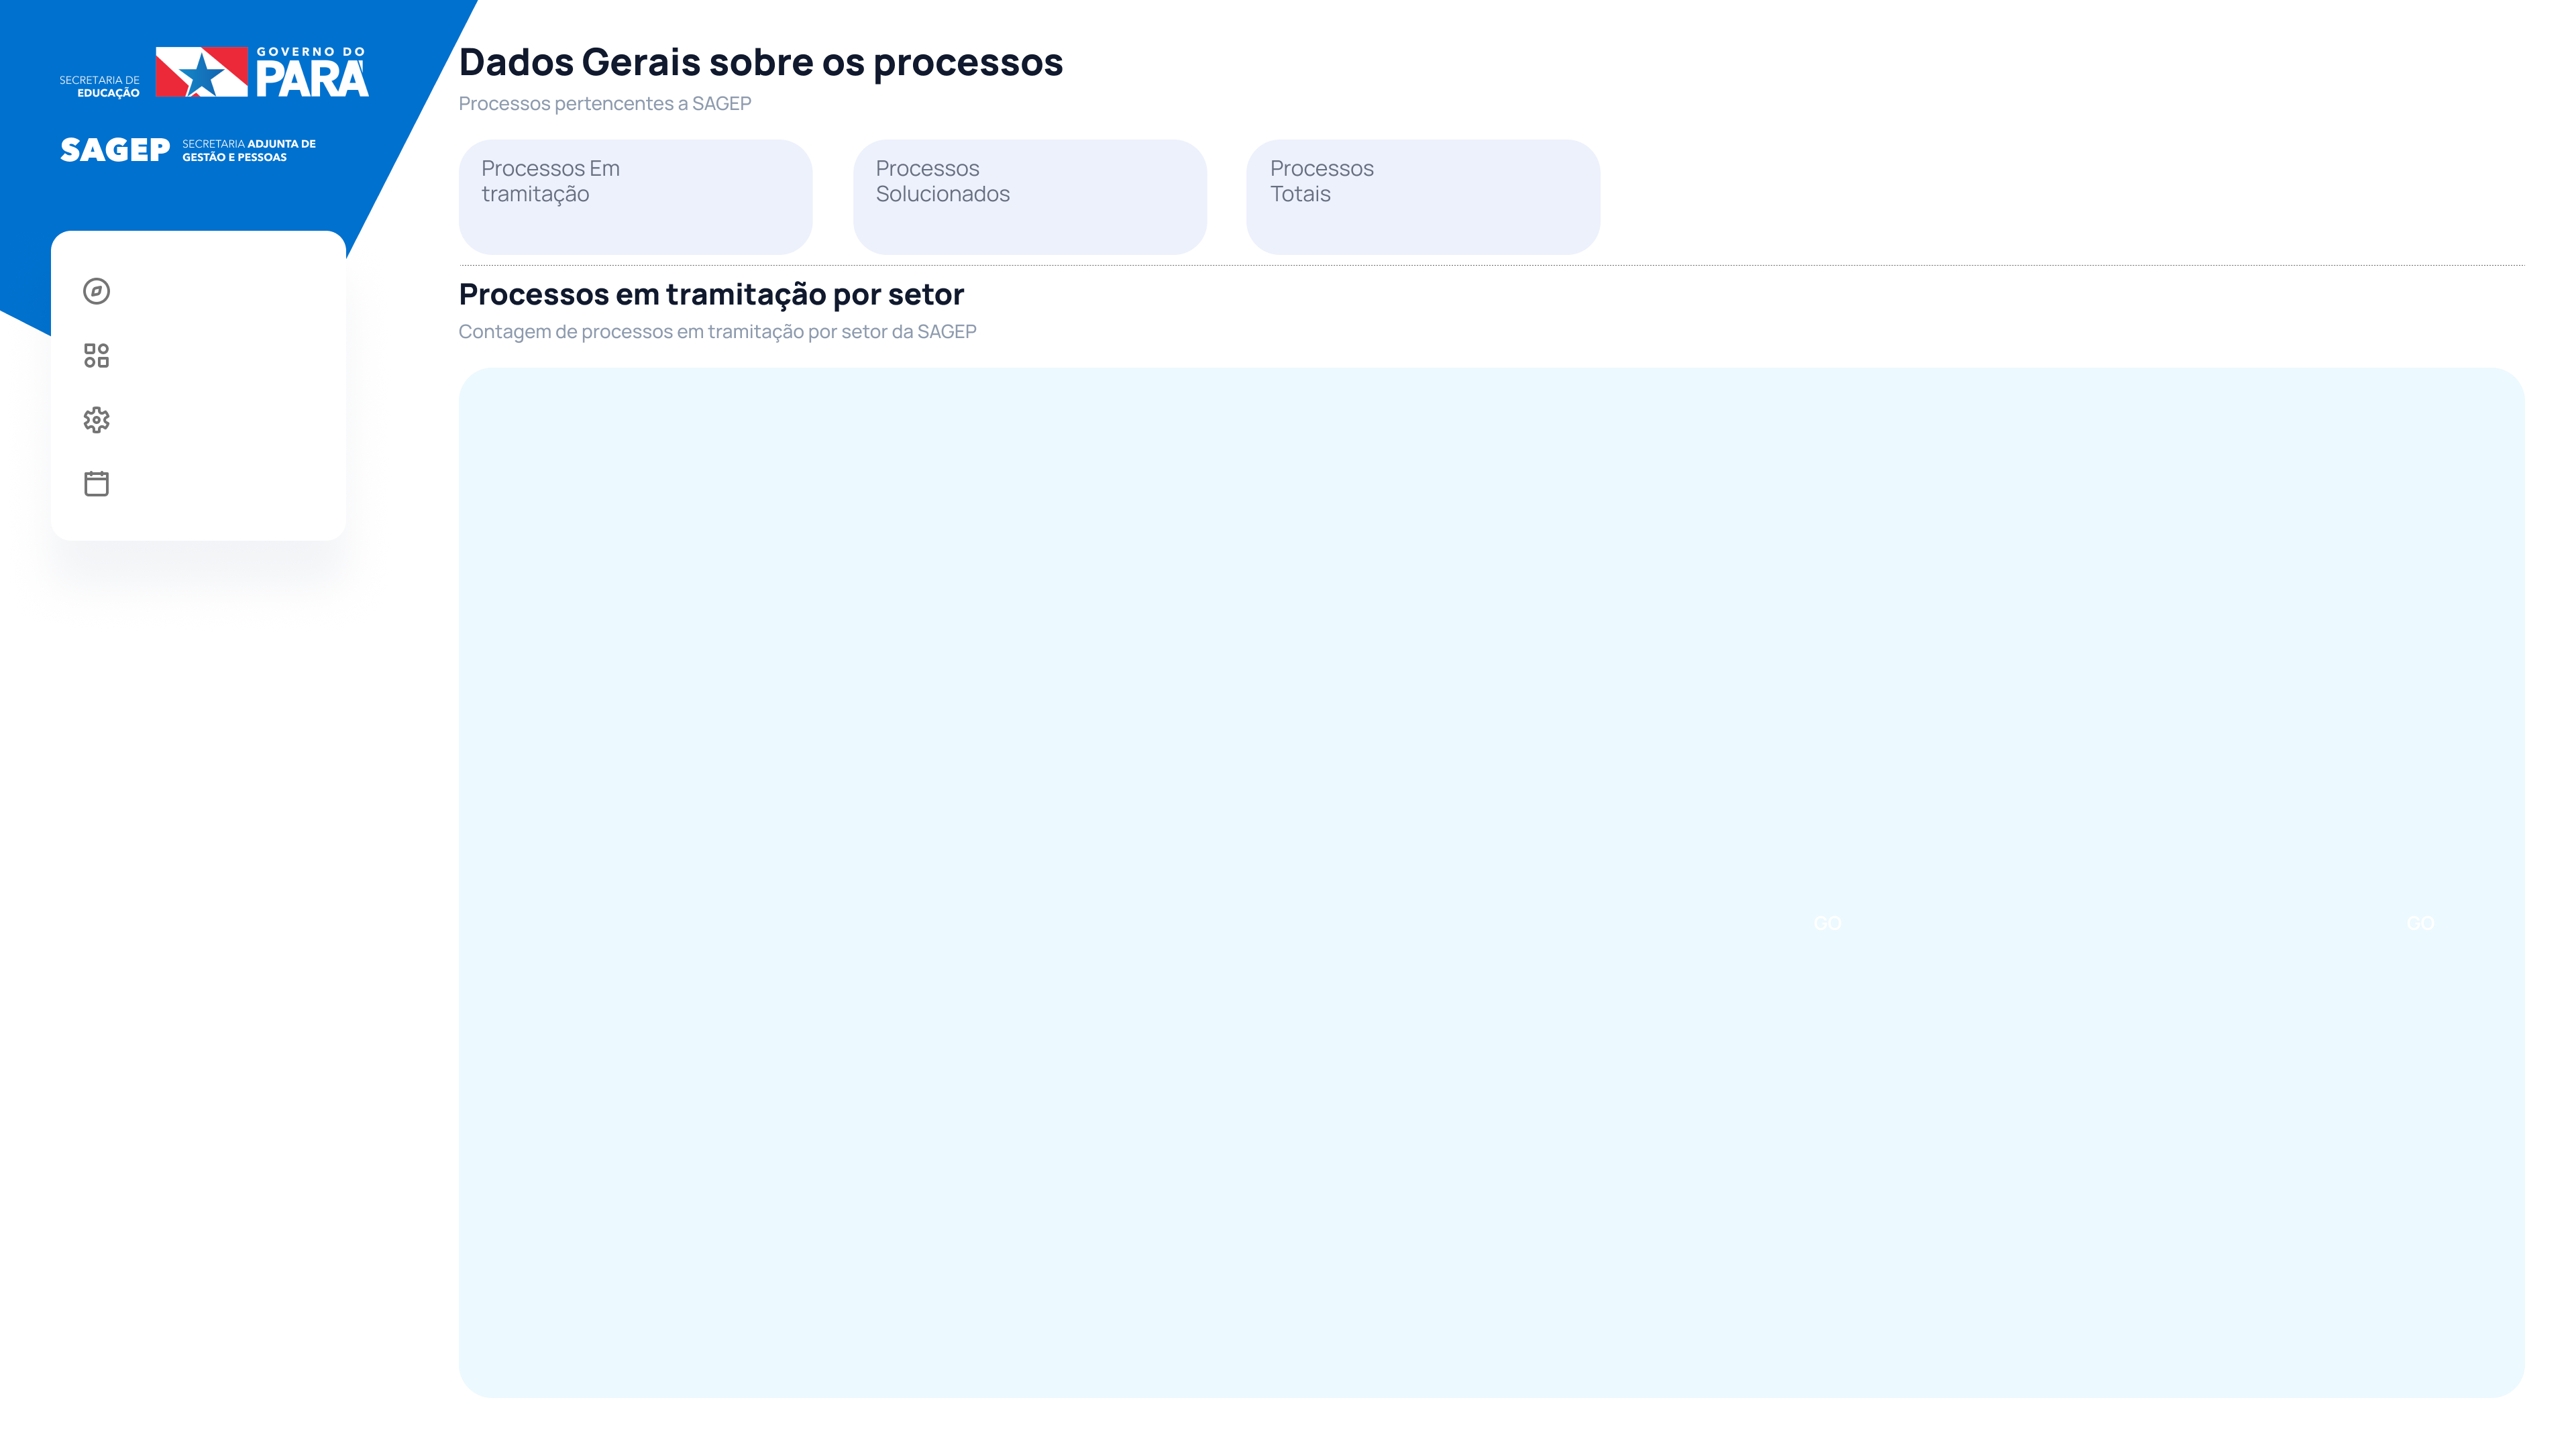

Layout of this report page (visuals, bound fields, positions):
{"tool":"powerbi","page":{"name":"Tabela Tramitação","canvas":[1280,720],"ordinal":1},"visuals":[{"type":"barChart","fields":{"Category":["Tramitações.Setor Traduzido"],"Y":["Tramitações.Tempo parado"]},"box":[240,172.5,1001,511.4],"z":0},{"type":"card","fields":{"Values":["Tramitações.Tempo de resposta"]},"box":[304.3,68.6,91.4,62.9],"z":1},{"type":"card","fields":{"Values":["Tramitações.Tempo parado"]},"box":[511.4,77.1,70,47.1],"z":2},{"type":"card","fields":{"Values":["Tramitações.N° Protocolo"]},"box":[681.4,72.9,90,51.4],"z":3},{"type":"textFilter25A4896A83E0487089E2B90C9AE57C8A","fields":{"field":["Críticos.Setor Traduzido"]},"box":[816.5,76,436.6,50.7],"z":4},{"type":"image","box":[50.3,134.7,64,22],"z":5},{"type":"image","box":[60.3,166.5,82.6,24.8],"z":6},{"type":"image","box":[60.4,198.5,59.2,21.9],"z":7}]}

Visuals, with their boxes on the page's 1280x720 design canvas (x1, y1, x2, y2). These are canvas units, not pixel positions in the 2576x1449 screenshot, which may show the page scaled, cropped or inside an application window:
barChart - Tramitações.Setor Traduzido x Tramitações.Tempo parado: [240, 172, 1241, 684]
card - Tramitações.Tempo de resposta: [304, 69, 396, 132]
card - Tramitações.Tempo parado: [511, 77, 581, 124]
card - Tramitações.N° Protocolo: [681, 73, 771, 124]
textFilter25A4896A83E0487089E2B90C9AE57C8A - Críticos.Setor Traduzido: [816, 76, 1253, 127]
image: [50, 135, 114, 157]
image: [60, 166, 143, 191]
image: [60, 198, 120, 220]
